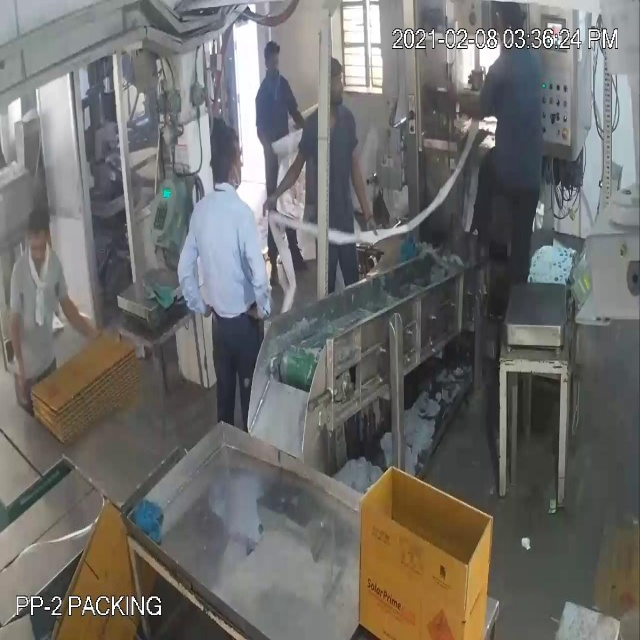Sin_guantes: (171, 219, 220, 332), (340, 132, 383, 244), (235, 209, 278, 316), (255, 133, 315, 209), (5, 292, 43, 406), (437, 61, 494, 128), (55, 282, 102, 351)
